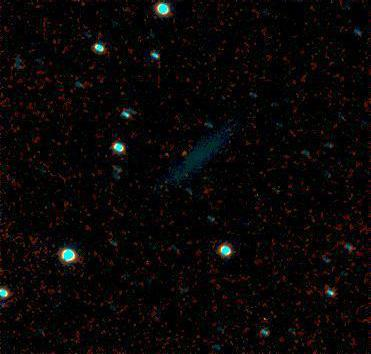star: (175, 135, 205, 165)
